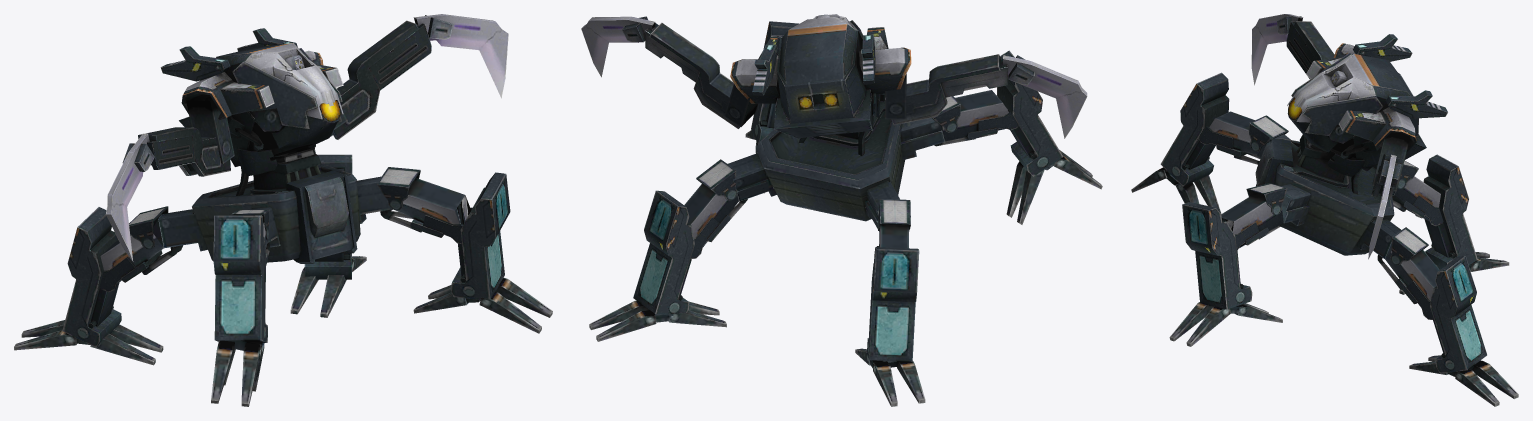
The picture shows the model from 3 angles, left to right: view 1: azimuth 30°, elevation 25°; view 2: azimuth 150°, elevation 25°; view 3: azimuth 270°, elevation 25°; orthographic projection. The views are drawn at different scales.
Visible parts, largest first — view 1: 20_10; view 2: 20_10; view 3: 20_10.
Part boxes in pixels (bbox=[...]): 20_10: bbox=[14, 14, 552, 406]; 20_10: bbox=[581, 14, 1102, 406]; 20_10: bbox=[1131, 14, 1518, 406].
Size of the model in its own units: 401 by 256 by 331.
